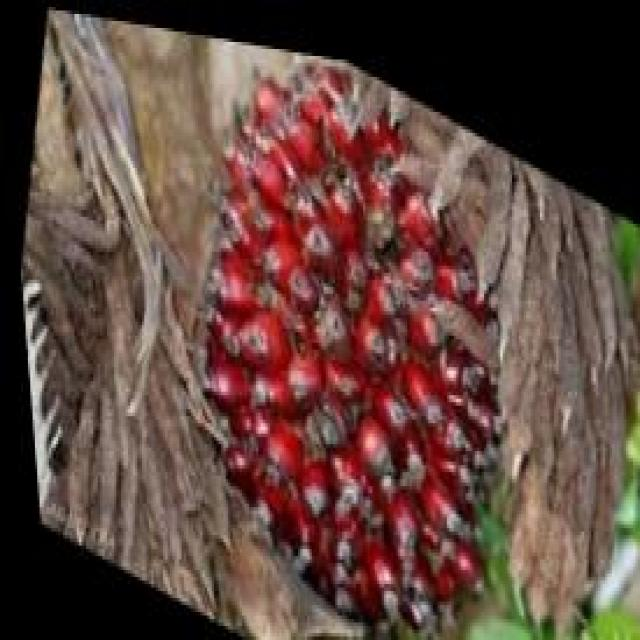Ripefruit: (144, 21, 554, 640)
